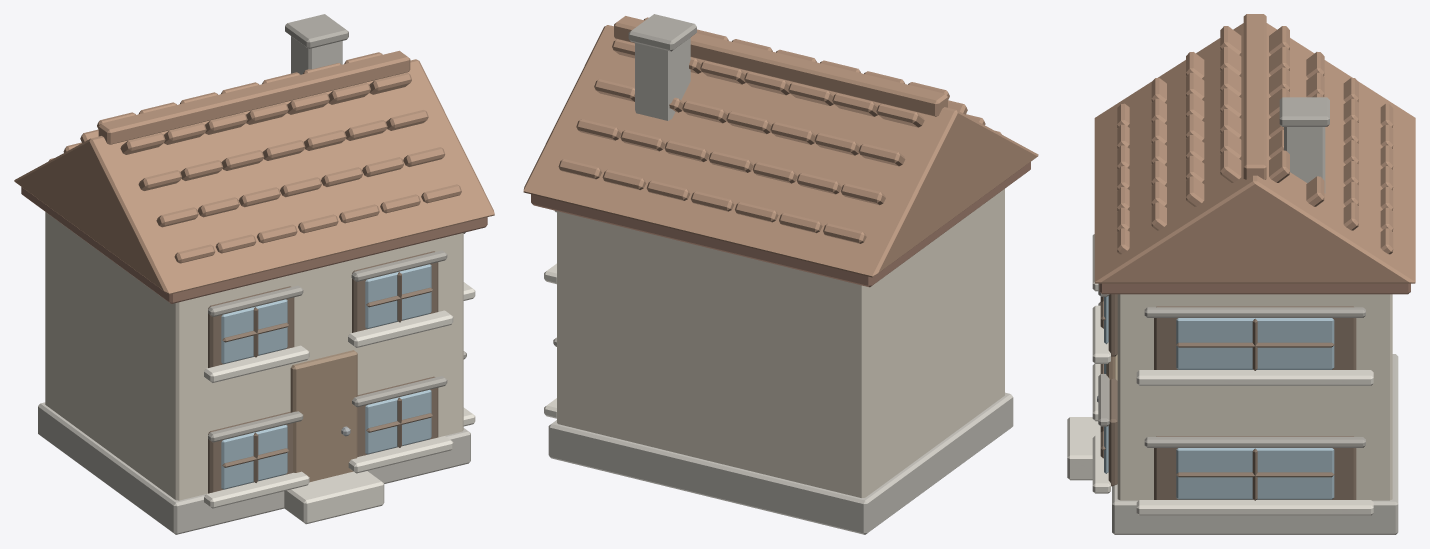
The model's file is house_stone_b.glb.
The picture shows the model from 3 angles, left to right: view 1: azimuth 30°, elevation 25°; view 2: azimuth 150°, elevation 25°; view 3: azimuth 270°, elevation 25°; orthographic projection. The views are drawn at different scales.
Visible parts, largest first — view 1: wall, roof, skirt, dframe, ridge, eave, step, wglass.001, wglass.003, wglass, wglass.002, wsill.002 (+21 smaller); view 2: wall, roof, skirt, ridge, eave, chimney, chcap, shingle.049, shingle.050, shingle.052, shingle.053, shingle.051 (+5 smaller); view 3: roof, wall, skirt, wglass.004, wglass.005, ridge, wsill.004, wsill.005, eave, wframe.005, wframe.004, wlintel.004 (+24 smaller).
Boxes of the visible parts, bbox=[...] form: wall: bbox=[45, 212, 463, 500]; roof: bbox=[14, 59, 494, 294]; skirt: bbox=[38, 402, 470, 534]; dframe: bbox=[290, 350, 357, 481]; ridge: bbox=[98, 50, 410, 144]; eave: bbox=[21, 187, 487, 303]; step: bbox=[284, 471, 384, 524]; wglass.001: bbox=[365, 389, 431, 454]; wglass.003: bbox=[365, 264, 431, 328]; wglass: bbox=[221, 425, 287, 489]; wglass.002: bbox=[221, 299, 287, 364]; wsill.002: bbox=[204, 345, 309, 382]; wall: bbox=[557, 189, 1004, 497]; roof: bbox=[523, 25, 1038, 277]; skirt: bbox=[548, 392, 1013, 534]; ridge: bbox=[614, 16, 947, 116]; eave: bbox=[531, 162, 1030, 287]; chimney: bbox=[635, 38, 690, 120]; chcap: bbox=[628, 14, 696, 51]; shingle.049: bbox=[876, 103, 924, 127]; shingle.050: bbox=[832, 93, 877, 116]; shingle.052: bbox=[744, 71, 789, 95]; shingle.053: bbox=[700, 60, 745, 84]; shingle.051: bbox=[788, 82, 833, 105]; roof: bbox=[1094, 23, 1415, 283]; wall: bbox=[1117, 294, 1392, 500]; skirt: bbox=[1112, 354, 1398, 534]; wglass.004: bbox=[1176, 448, 1334, 499]; wglass.005: bbox=[1176, 318, 1334, 369]; ridge: bbox=[1243, 14, 1266, 179]; wsill.004: bbox=[1136, 500, 1373, 515]; wsill.005: bbox=[1136, 370, 1373, 385]; eave: bbox=[1099, 283, 1410, 294]; wframe.005: bbox=[1154, 306, 1356, 369]; wframe.004: bbox=[1154, 436, 1356, 499]; wlintel.004: bbox=[1144, 437, 1365, 447].
Bounding box in the file's own units: 1.72 × 1.94 × 1.52.
